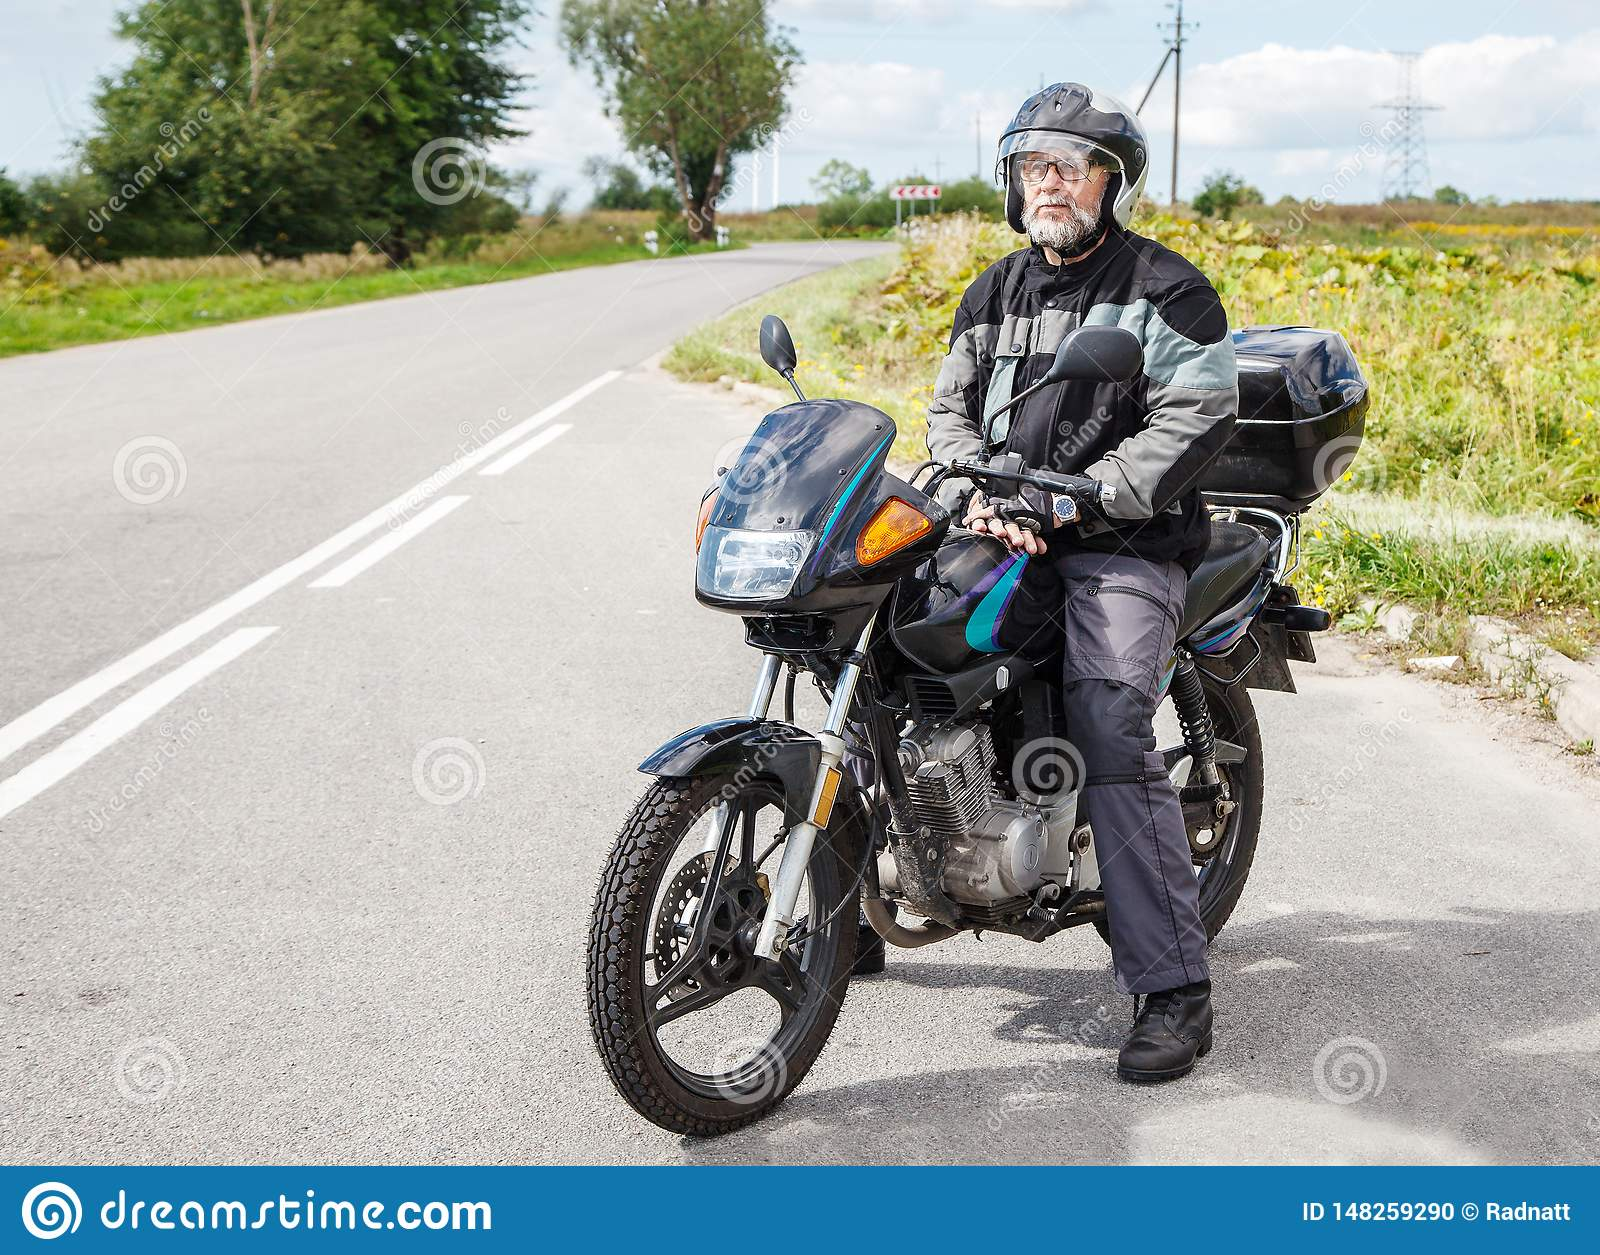helmet: (990, 82, 1158, 235)
